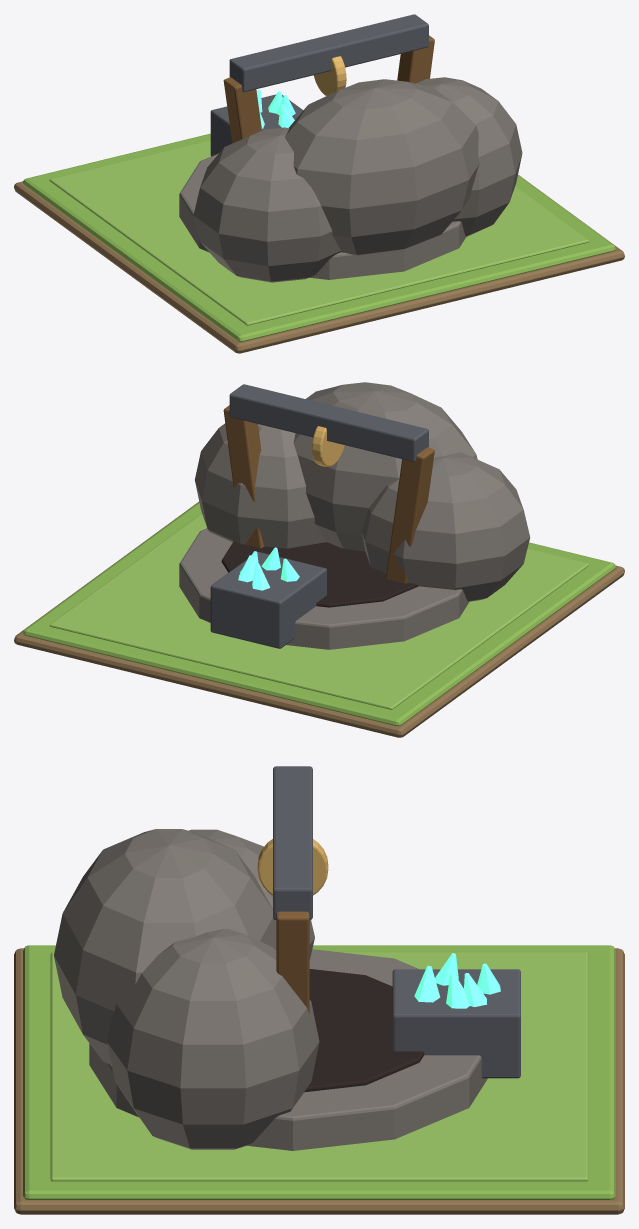
File: gem_mine_lv2.glb
3 views of the same model, one above another, from view 1: azimuth 30°, elevation 25°; view 2: azimuth 150°, elevation 25°; view 3: azimuth 270°, elevation 25° (orthographic). The views are drawn at different scales.
Parts seen in each view (by area): view 1: GemRock_2, Base_Inner, GemRock_0, Base_Grass, Base_Dirt, GemHoistBeam, GemRock_1, QuarryPitRim, GemHoistPost_-1, GemCartBody, GemHoistPost_1, GemPulley; view 2: Base_Inner, GemRock_0, Base_Grass, GemRock_2, GemRock_1, QuarryPitRim, Base_Dirt, GemCartBody, GemHoistBeam, QuarryPitHole, GemHoistPost_-1, GemHoistPost_1 (+1 smaller); view 3: Base_Inner, GemRock_1, Base_Grass, GemRock_2, QuarryPitRim, Base_Dirt, GemCartBody, QuarryPitHole, GemHoistBeam, GemHoistPost_1, GemRock_0, GemPulley (+1 smaller).
Boxes of the visible parts, x1,y1,x2,y2 form: GemRock_2: (284, 79, 479, 255); Base_Inner: (49, 140, 589, 325); GemRock_0: (193, 127, 340, 282); Base_Grass: (23, 133, 615, 341); Base_Dirt: (14, 174, 624, 353); GemHoistBeam: (229, 14, 428, 91); GemRock_1: (416, 77, 522, 236); QuarryPitRim: (179, 153, 465, 279); GemHoistPost_-1: (223, 77, 261, 143); GemCartBody: (210, 94, 303, 156); GemHoistPost_1: (397, 35, 434, 83); GemPulley: (313, 56, 346, 95); Base_Inner: (49, 513, 589, 709); GemRock_0: (361, 452, 530, 601); Base_Grass: (23, 502, 615, 726); GemRock_2: (293, 382, 477, 551); GemRock_1: (195, 423, 326, 548); QuarryPitRim: (179, 528, 469, 649); Base_Dirt: (14, 502, 624, 737); GemCartBody: (210, 552, 326, 648); GemHoistBeam: (229, 384, 428, 461); QuarryPitHole: (221, 541, 418, 607); GemHoistPost_-1: (385, 447, 434, 583); GemHoistPost_1: (223, 405, 264, 548); Base_Inner: (50, 952, 588, 1181); GemRock_1: (107, 928, 319, 1149); Base_Grass: (23, 945, 615, 1199); GemRock_2: (54, 829, 276, 1064); QuarryPitRim: (89, 949, 487, 1150); Base_Dirt: (14, 948, 624, 1214); GemCartBody: (392, 969, 520, 1078); QuarryPitHole: (304, 969, 424, 1092); GemHoistBeam: (273, 766, 312, 919); GemHoistPost_1: (276, 911, 309, 1012); GemRock_0: (189, 829, 314, 959); GemPulley: (257, 839, 328, 895).
Size of the model in its own units: 2.76 by 1.32 by 2.76.
